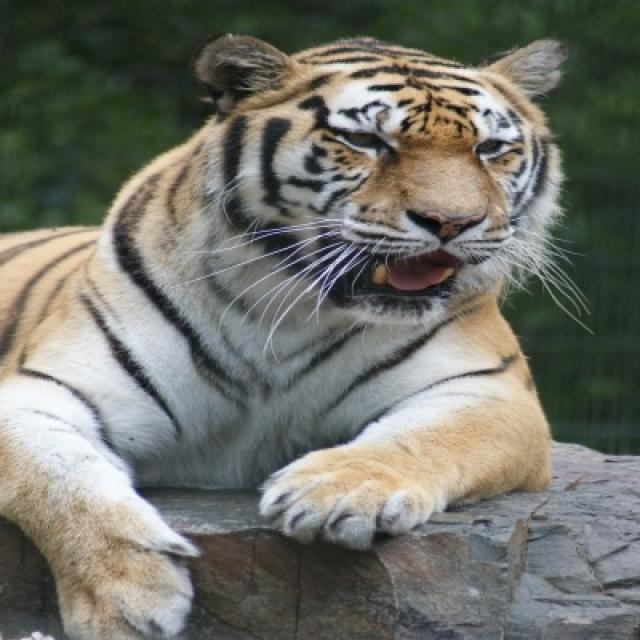Tiger: (0, 34, 568, 638)
